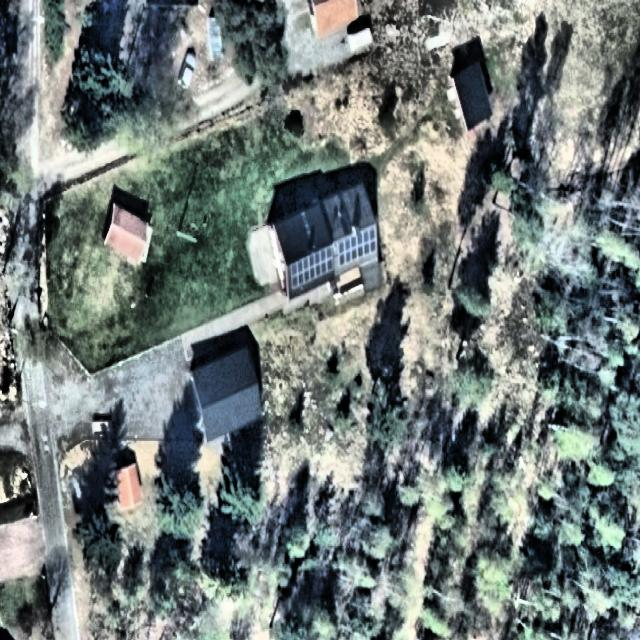roof_pv: (287, 245, 337, 292), (335, 227, 379, 275)
